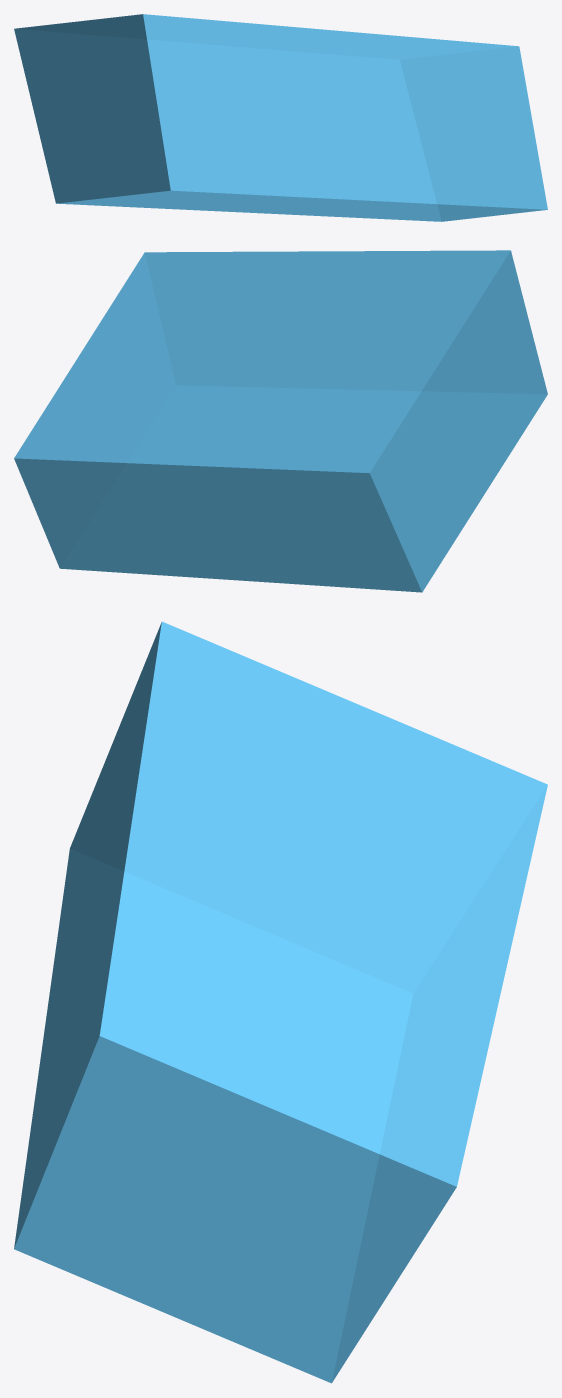
File: Event_421556567_HErechit_13.fbx
3 renders of one model, top to bottom at view 1: azimuth 30°, elevation 25°; view 2: azimuth 150°, elevation 25°; view 3: azimuth 270°, elevation 25°, orthographic. The views are drawn at different scales.
Parts seen in each view (by area): view 1: Model; view 2: Model; view 3: Model.
Boxes of the visible parts, bbox=[...] form: Model: bbox=[14, 14, 547, 221]; Model: bbox=[14, 250, 547, 592]; Model: bbox=[14, 621, 547, 1383].
Bounding box in the file's own units: 0.8258 × 0.7396 × 0.7121.
